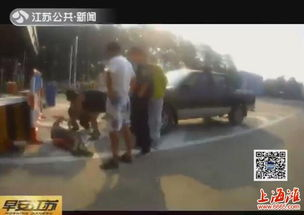fall: (46, 114, 92, 160)
